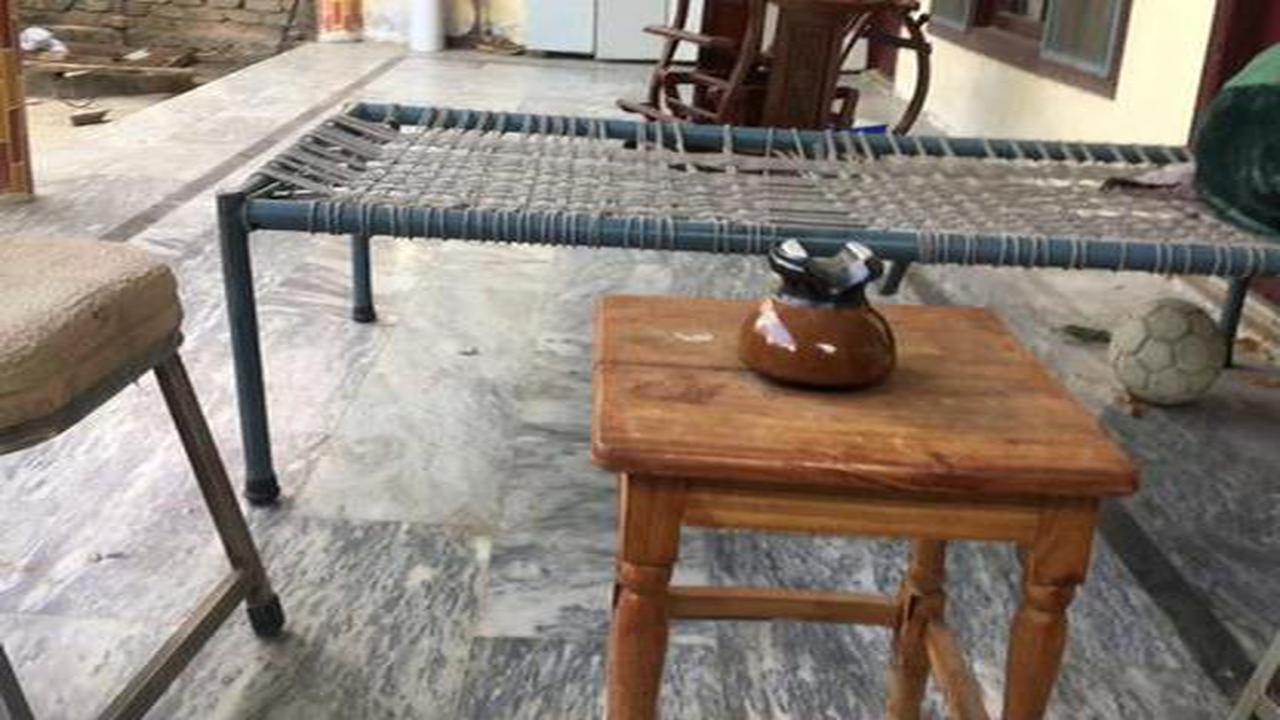insulator_pin: (711, 212, 933, 400)
